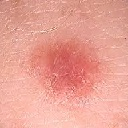Melanoma: (31, 38, 107, 106)
